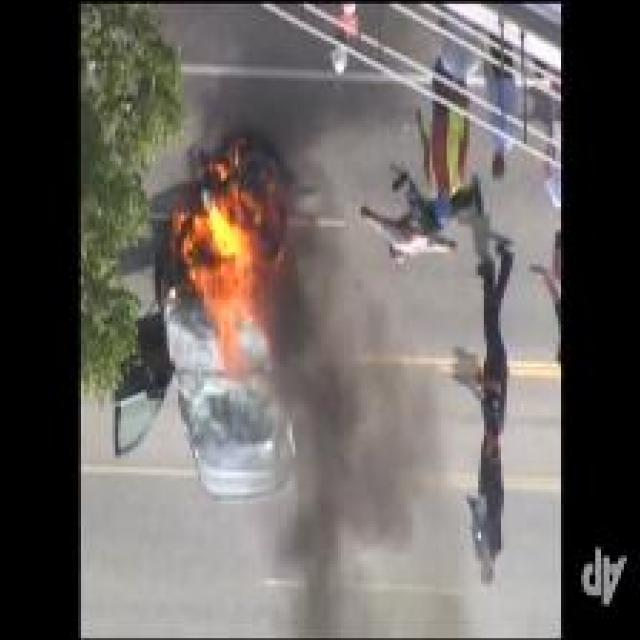Fire: (172, 178, 292, 372)
